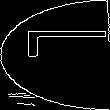L_E: (5, 40, 105, 70)
